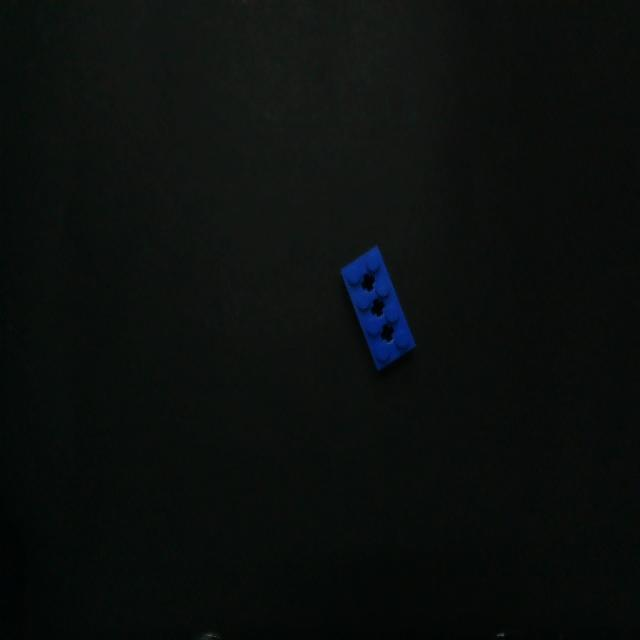lego_brick: (341, 247, 414, 368)
